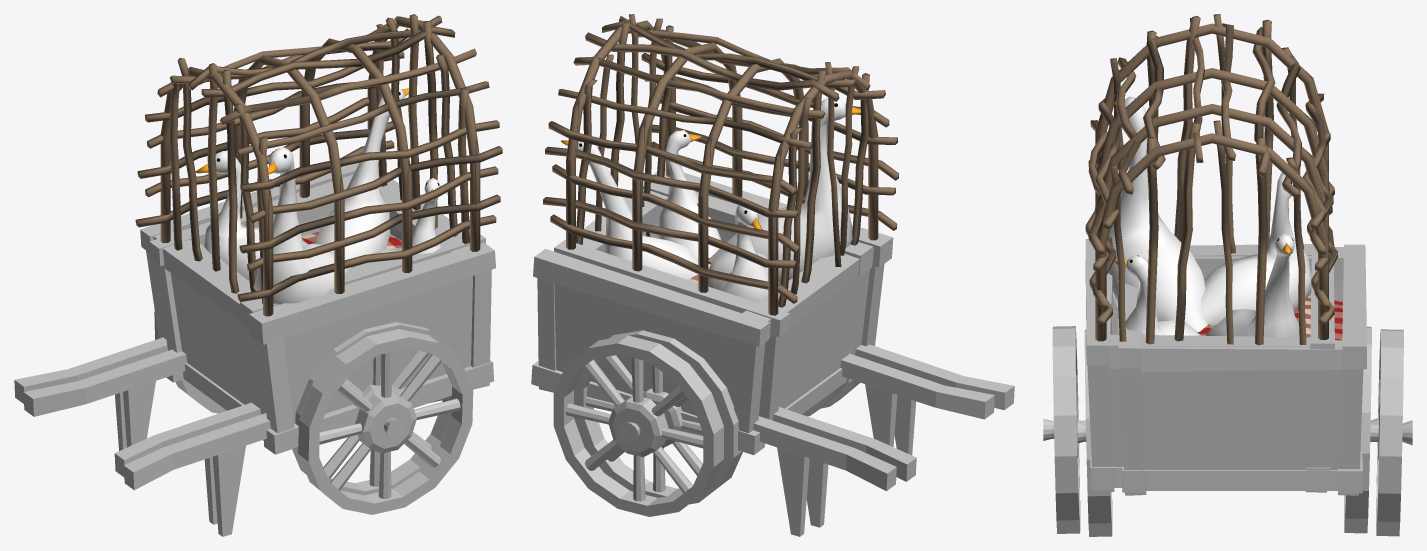
Rendered from PoultryCart2.fbx.
3 renders of one model, left to right at view 1: azimuth 30°, elevation 25°; view 2: azimuth 150°, elevation 25°; view 3: azimuth 270°, elevation 25°, orthographic. The views are drawn at different scales.
Parts seen in each view (by area): view 1: Fence.002, Wheel.001, Cart.001, Fence.001, Fence.003, Frame.002, Wheel.013, Handle.001, Handle.002, Fence.004, Frame.003, Frame.010 (+15 smaller); view 2: Fence.002, Wheel.014, Fence.001, Cart.007, Wheel.002, Fence.003, Frame.073, Cart.001, Fence.004, Handle.014, Handle.013, Frame.001 (+16 smaller); view 3: Fence.002, Cart.007, Fence.001, Fence.003, Fence.004, Wheel.001, Wheel.014, Frame.076, Frame.083, Frame.073, Frame.006, Frame.078 (+15 smaller).
Part boxes in pixels (left/top/right/bottom): Fence.002: left=135, top=14, right=502, bottom=303; Wheel.001: left=298, top=329, right=473, bottom=514; Cart.001: left=170, top=213, right=472, bottom=423; Fence.001: left=160, top=16, right=480, bottom=316; Fence.003: left=253, top=88, right=408, bottom=304; Frame.002: left=249, top=242, right=495, bottom=344; Wheel.013: left=292, top=322, right=454, bottom=495; Handle.001: left=23, top=349, right=186, bottom=416; Handle.002: left=124, top=413, right=270, bottom=490; Fence.004: left=195, top=151, right=440, bottom=280; Frame.003: left=162, top=240, right=250, bottom=321; Frame.010: left=263, top=360, right=494, bottom=454; Fence.002: left=543, top=14, right=899, bottom=307; Wheel.014: left=553, top=335, right=723, bottom=516; Fence.001: left=566, top=20, right=878, bottom=315; Cart.007: left=554, top=229, right=739, bottom=415; Wheel.002: left=574, top=330, right=742, bottom=504; Fence.003: left=561, top=97, right=860, bottom=283; Frame.073: left=533, top=249, right=769, bottom=346; Cart.001: left=642, top=222, right=869, bottom=408; Fence.004: left=658, top=130, right=779, bottom=302; Handle.014: left=840, top=354, right=994, bottom=419; Handle.013: left=753, top=416, right=896, bottom=490; Frame.001: left=554, top=239, right=789, bottom=337; Fence.002: left=1085, top=14, right=1337, bottom=345; Cart.007: left=1141, top=281, right=1343, bottom=469; Fence.001: left=1095, top=23, right=1328, bottom=341; Fence.003: left=1108, top=96, right=1299, bottom=337; Fence.004: left=1114, top=172, right=1311, bottom=335; Wheel.001: left=1052, top=326, right=1080, bottom=533; Wheel.014: left=1376, top=329, right=1403, bottom=536; Frame.076: left=1140, top=340, right=1342, bottom=371; Frame.083: left=1146, top=470, right=1337, bottom=490; Frame.073: left=1342, top=244, right=1366, bottom=369; Frame.006: left=1087, top=365, right=1114, bottom=492; Frame.078: left=1119, top=368, right=1146, bottom=495.
Size of the model in its own units: 196 by 271 by 249.
